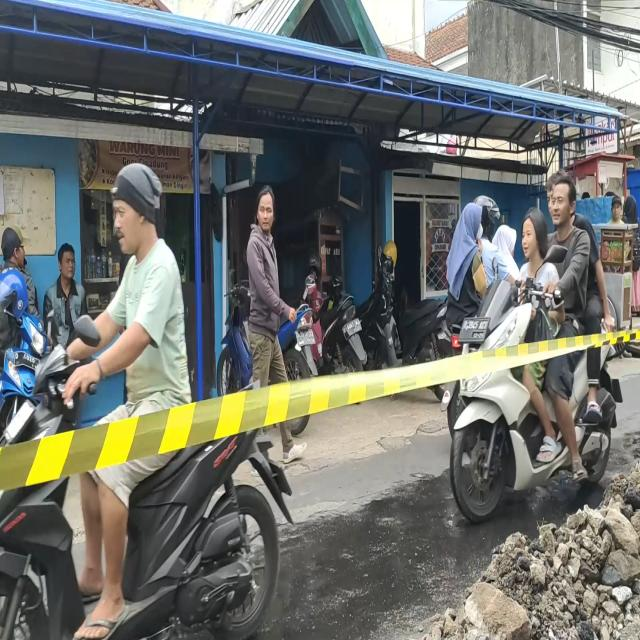helmet: (482, 193, 501, 235)
no-helmet: (118, 171, 156, 254), (549, 177, 577, 224), (521, 219, 543, 255), (554, 187, 573, 226), (461, 207, 481, 236), (498, 227, 516, 258)
